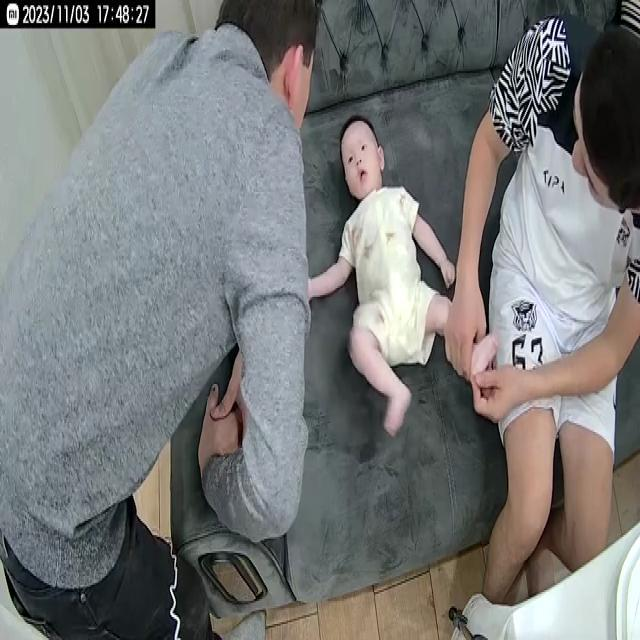baby: (308, 108, 501, 438)
